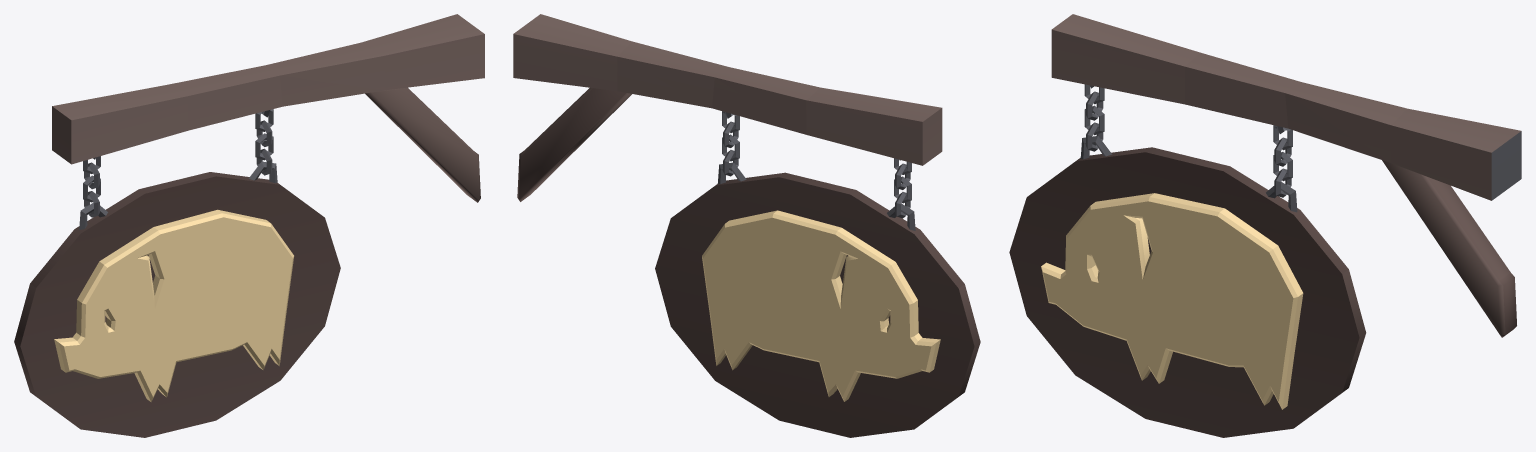
Rendered from tavern-butcher-sign.glb.
3 renders of one model, left to right at view 1: azimuth 30°, elevation 25°; view 2: azimuth 150°, elevation 25°; view 3: azimuth 330°, elevation 25°, orthographic. The views are drawn at different scales.
Visible parts, largest first — view 1: piggy_med_diffuse_0; view 2: piggy_med_diffuse_0; view 3: piggy_med_diffuse_0.
Part boxes in pixels (left/top/right/bottom): piggy_med_diffuse_0: left=14, top=14, right=484, bottom=437; piggy_med_diffuse_0: left=513, top=14, right=980, bottom=437; piggy_med_diffuse_0: left=1009, top=14, right=1521, bottom=437.
Size of the model in its own units: 1.71 by 1.22 by 0.1777.
1 material, 1 textured.
